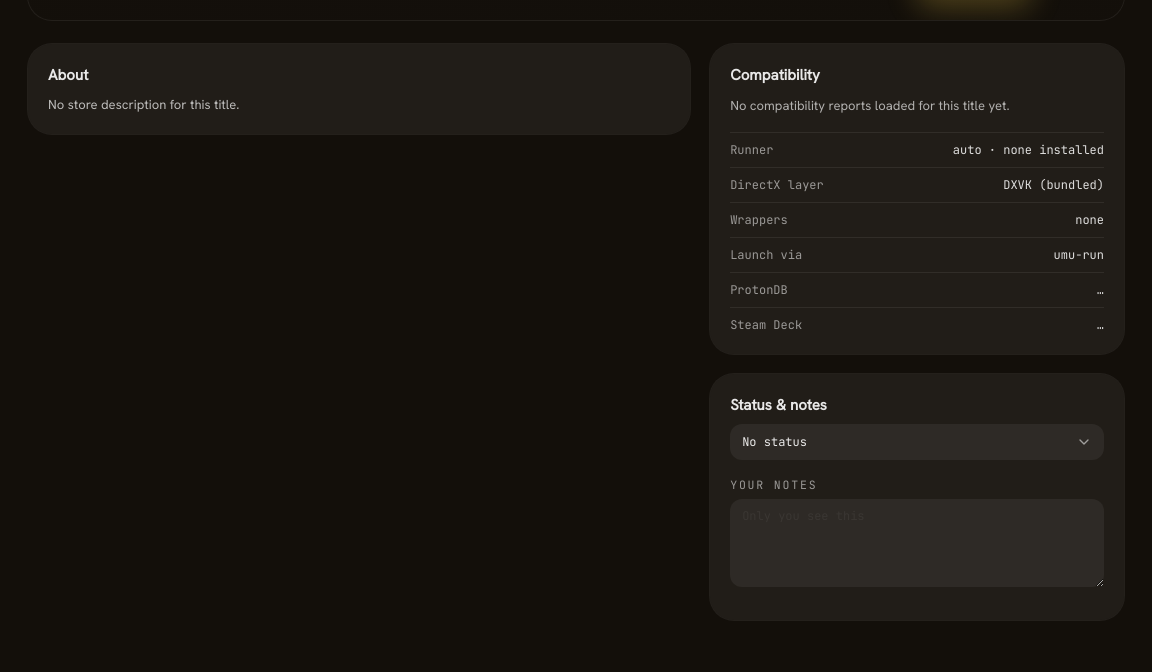
Test case: game notes autosave › never overlaps writes: a slow save finishes before a newer one starts
(page scrolled)
Type "first" into the text box with test id "notes-input". click: (917, 543)
box: [730,499,1104,587]
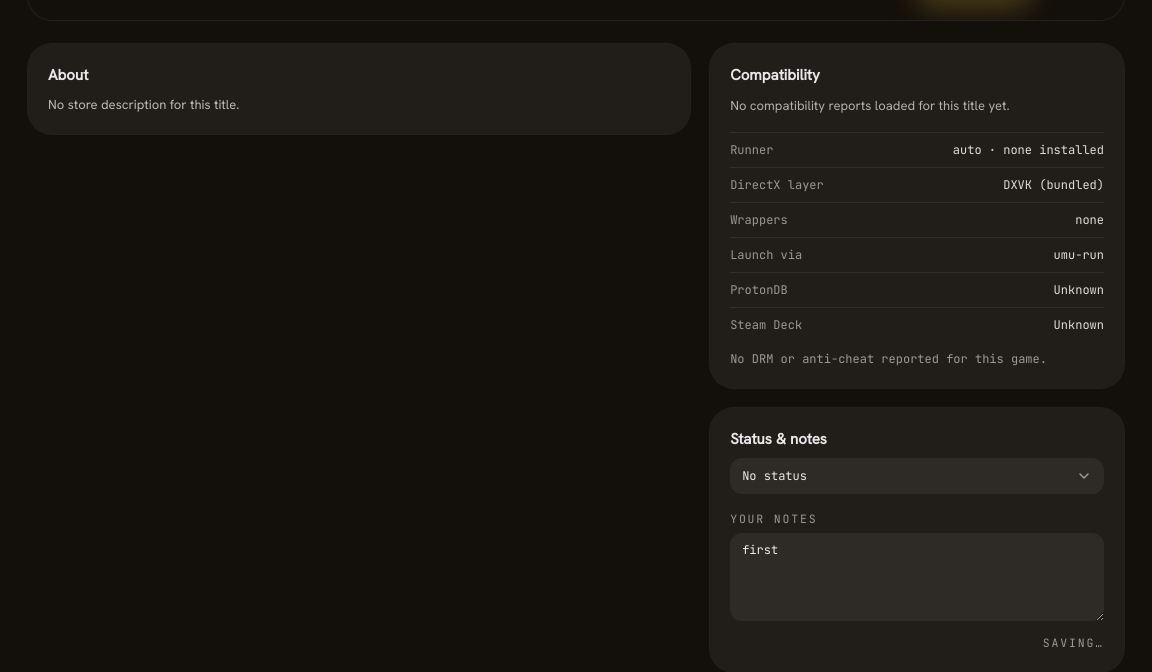
Expected: the text "Saving…" is shown, [1043,635,1104,650]
Replace the text in the text box with test id "notes-input" with "newer". click: (917, 577)
box: [730,533,1104,621]
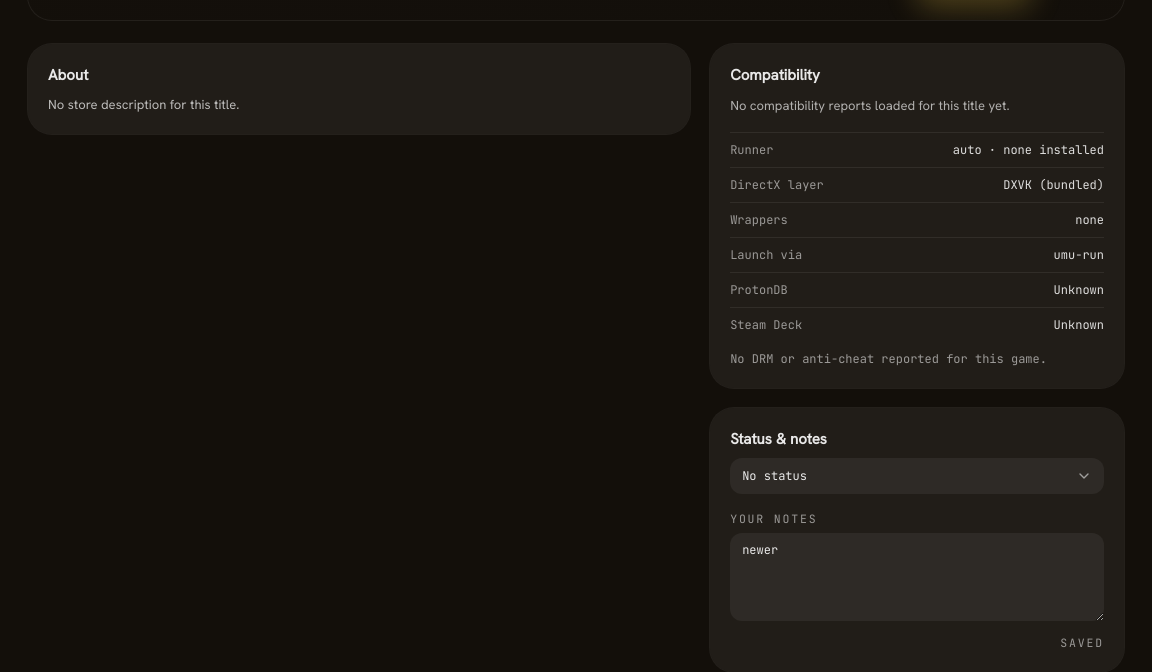
Expected: the text "Saved" is shown, [1060,635,1104,650]
